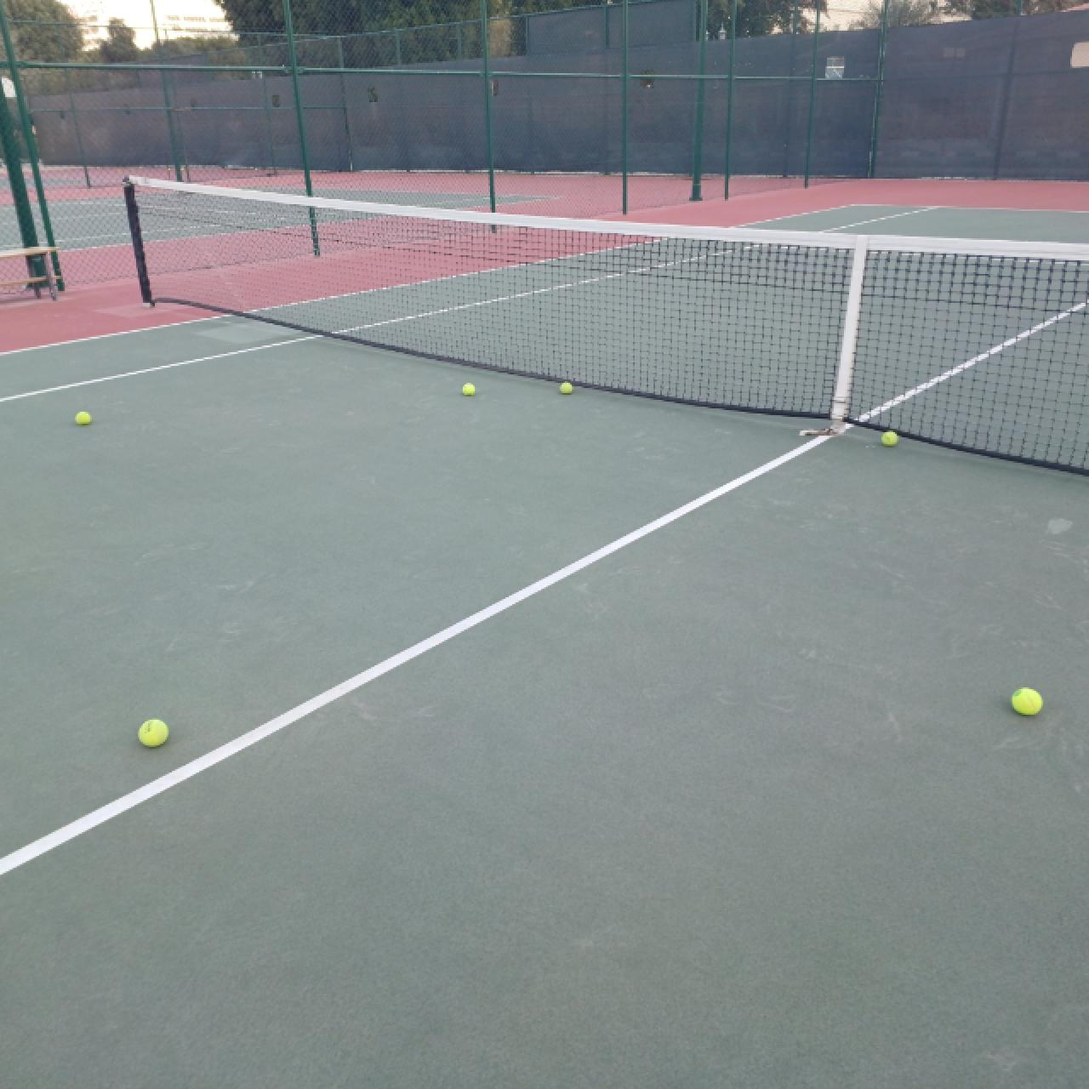tennis-ball: (138, 716, 170, 749), (1010, 684, 1043, 716), (74, 407, 93, 427), (882, 429, 899, 450), (459, 381, 478, 398), (557, 379, 574, 396)
